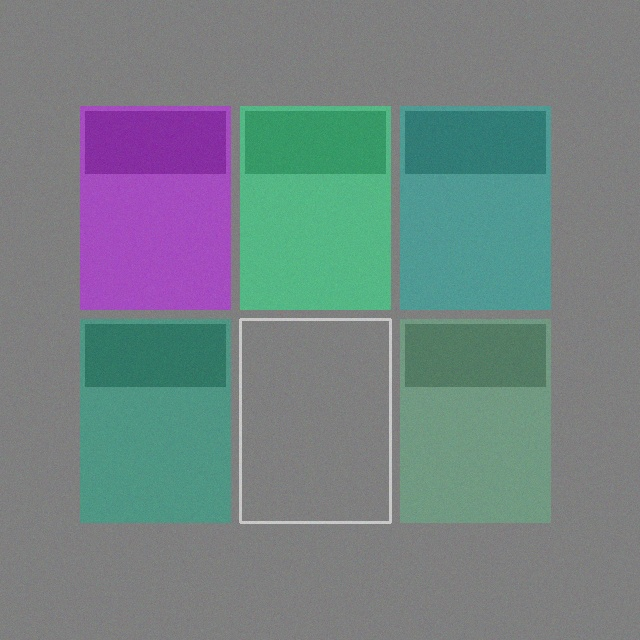space-empty: (240, 319, 390, 522)
space-occupied: (80, 106, 230, 309), (240, 106, 390, 309), (400, 106, 550, 309), (80, 319, 230, 522), (400, 319, 550, 522)
